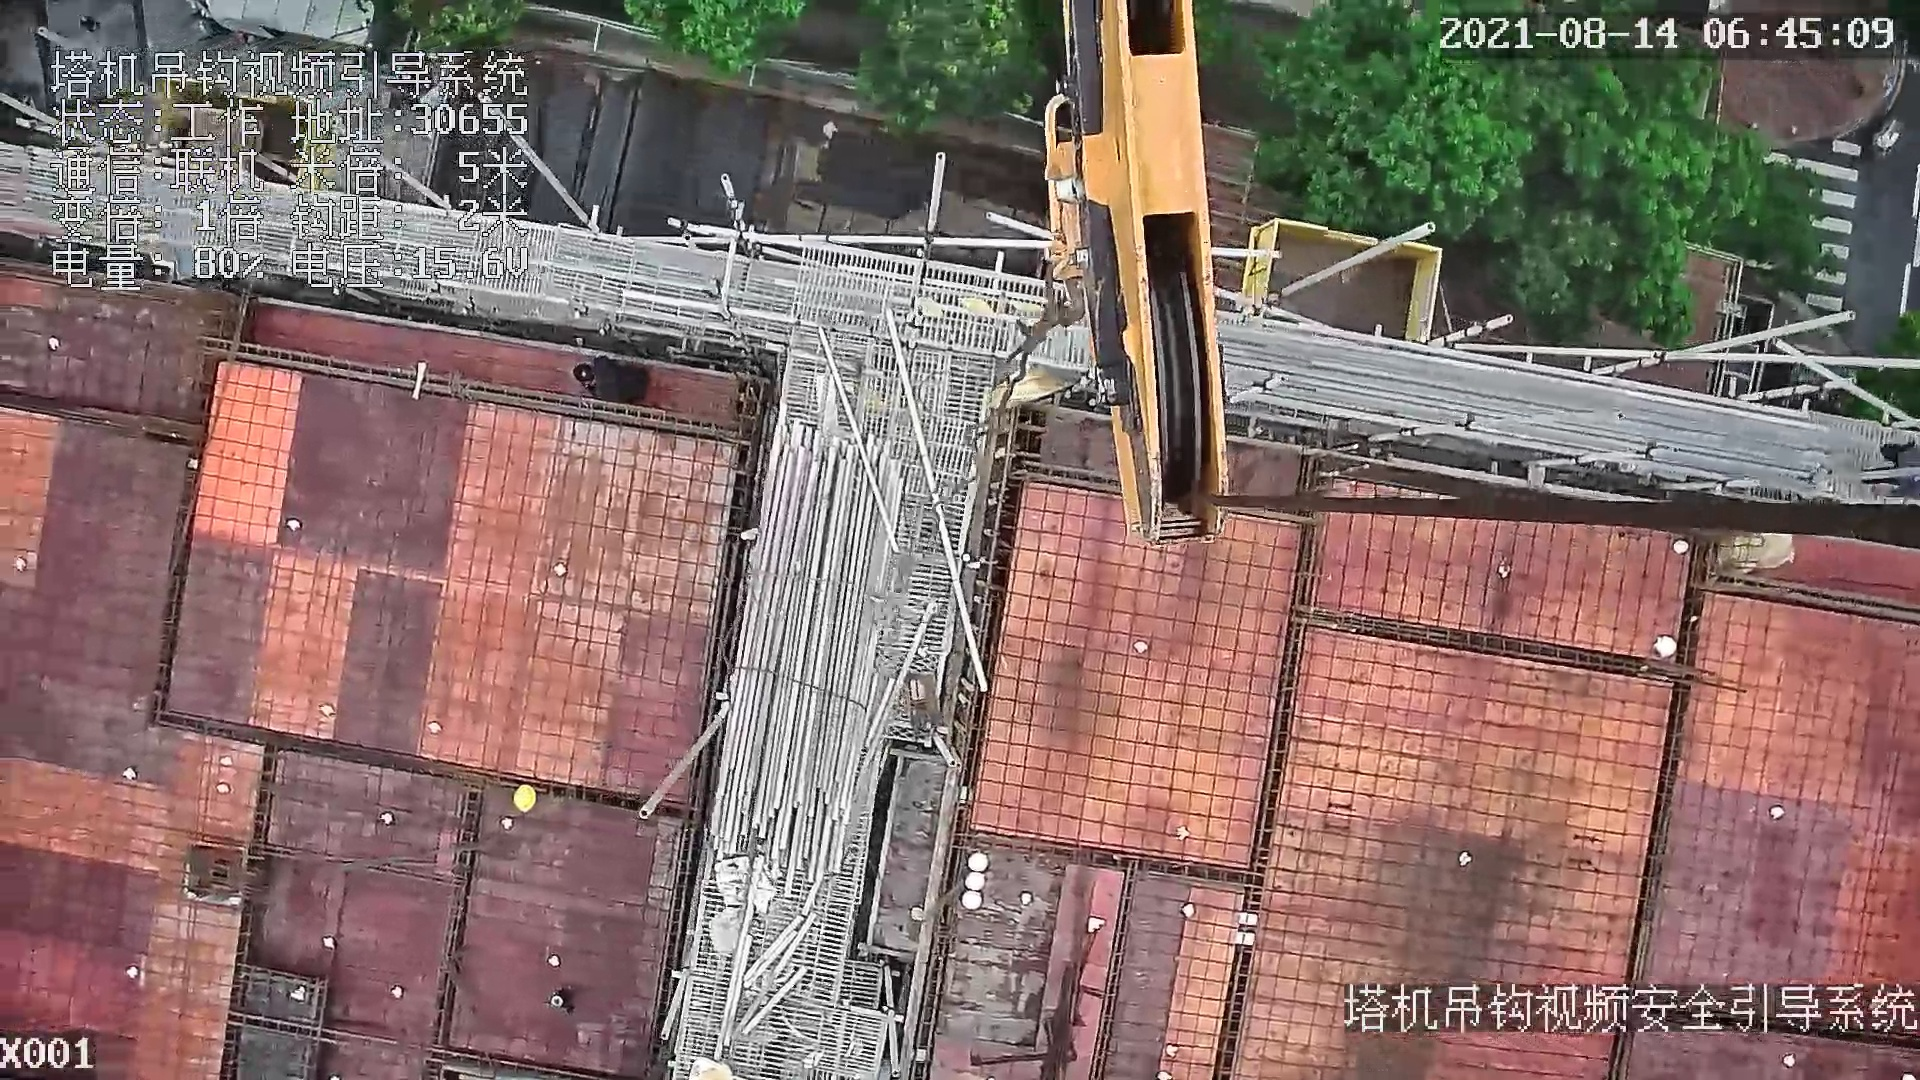helmet: (507, 782, 544, 812)
hook: (1015, 1, 1232, 545)
person: (566, 349, 656, 408)
